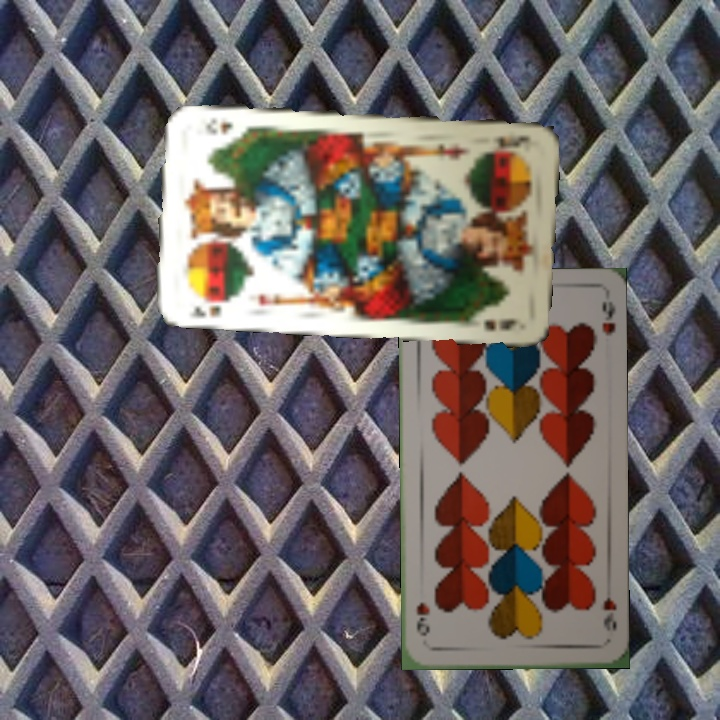H9: (599, 593, 619, 634)
SK: (186, 293, 232, 320), (489, 132, 532, 152)
